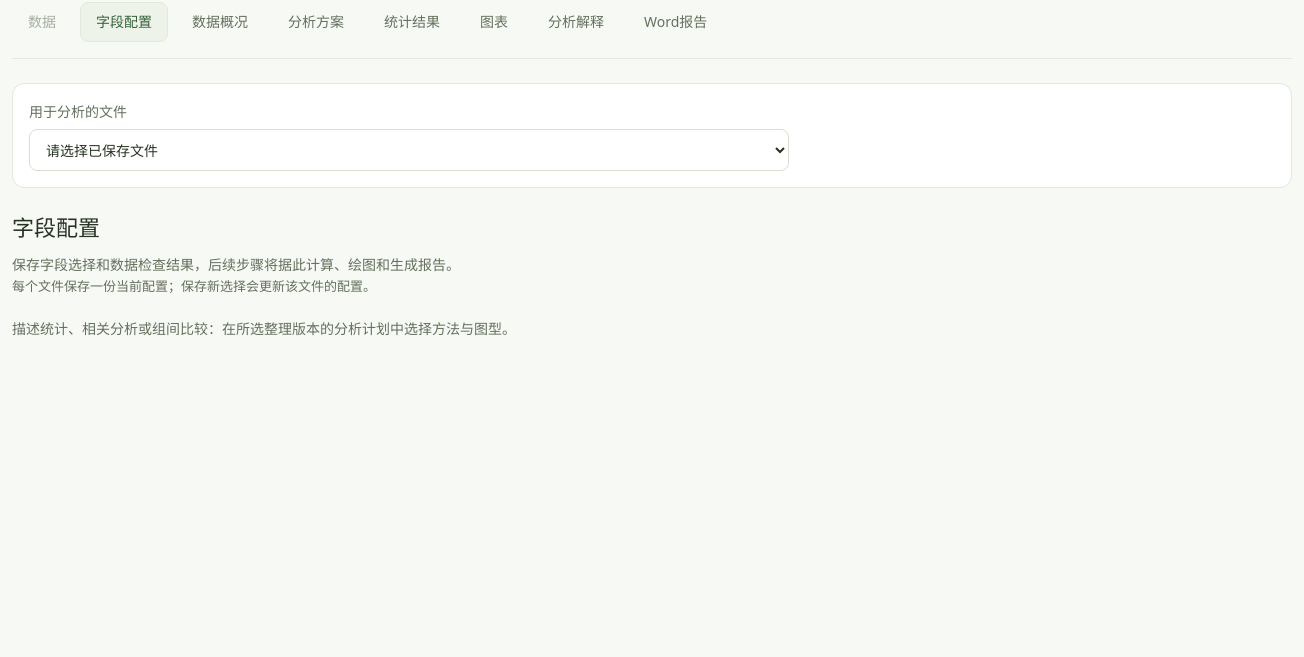
rejects saved response with inconsistent revision
Select "研究.xlsx · 2026/10/10 01:00:00" in the dropdown labelled "用于分析的文件" at coordinates (409, 150), box x1=29 y1=129 x2=789 y2=171
(page scrolled)
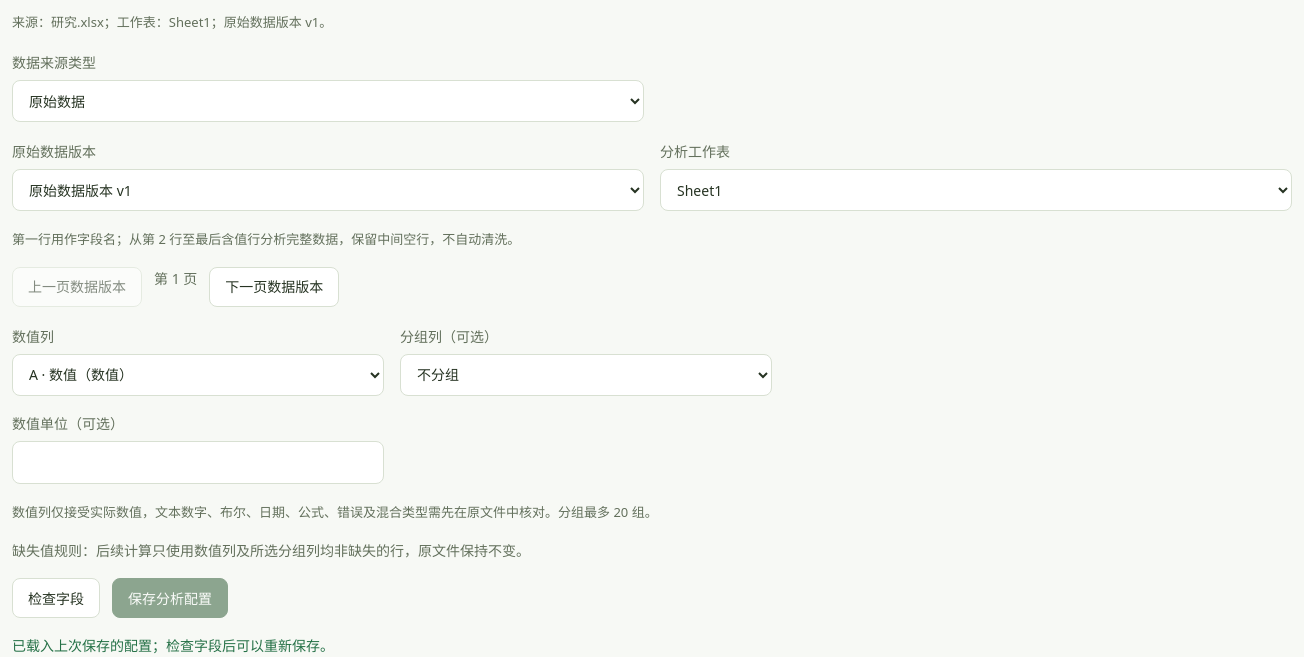
Now the dropdown labelled "数值列" is shown, box x1=12 y1=354 x2=384 y2=396
Click the button "检查字段" at coordinates (56, 598), box x1=12 y1=578 x2=100 y2=618
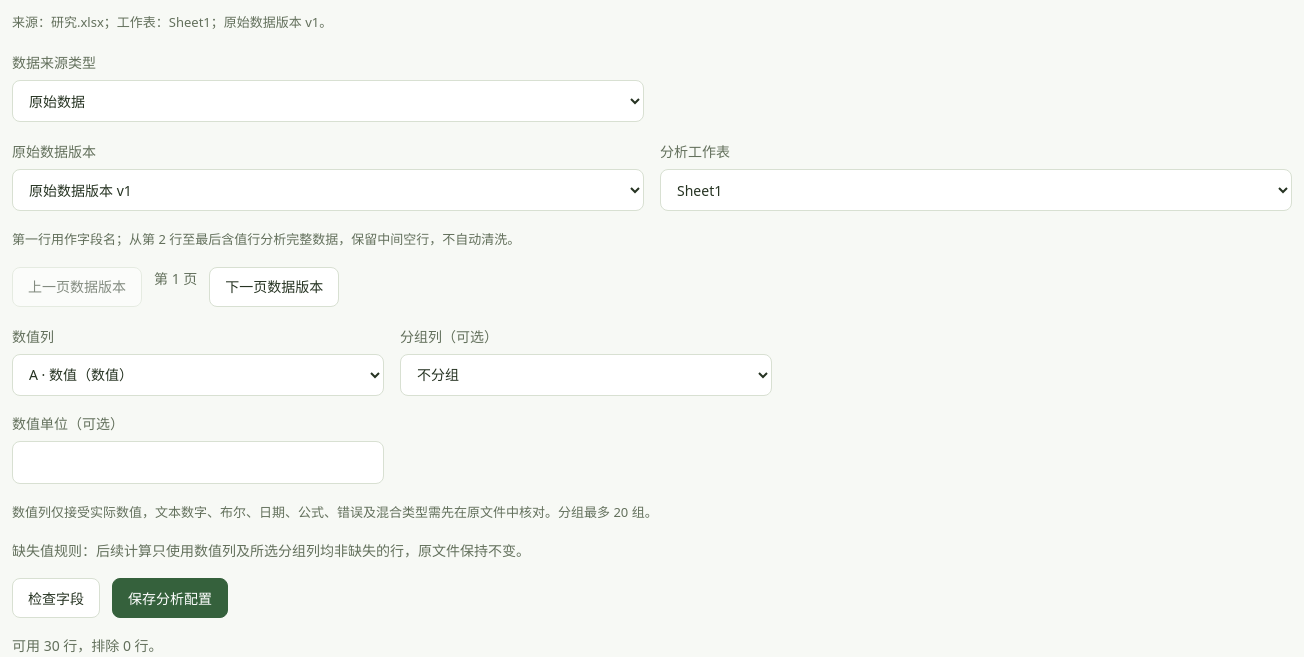
Now the text "可用 30 行，排除 0 行。" is shown, box x1=12 y1=636 x2=163 y2=655
Click the button "保存分析配置" at coordinates (170, 598), box x1=112 y1=578 x2=228 y2=618
(page scrolled)
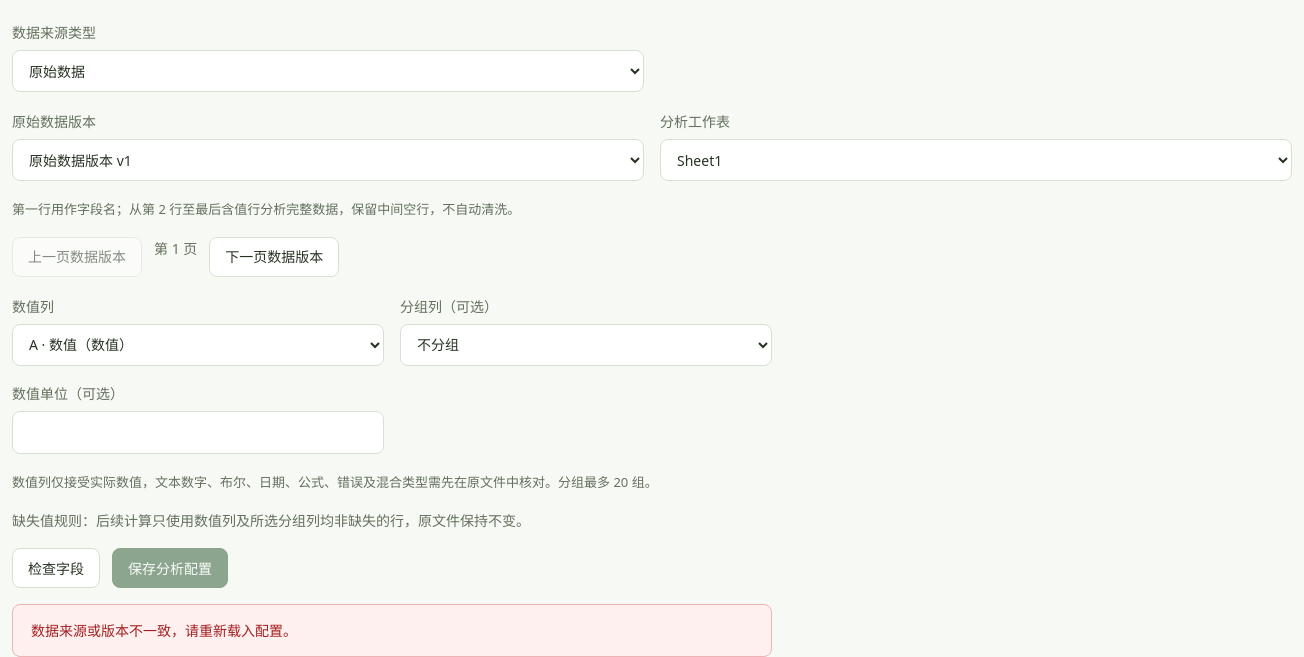
Now the text "数据来源或版本不一致，请重新载入配置。" is shown, box x1=12 y1=604 x2=772 y2=656
